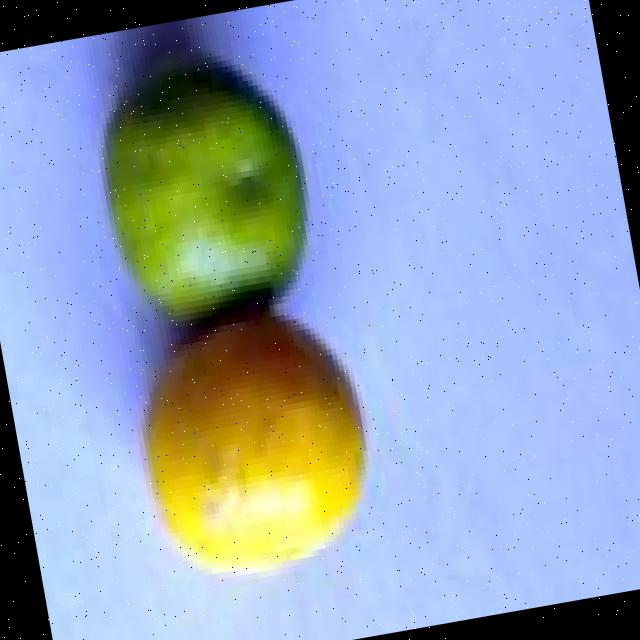Good_Orange-15-21 days: (96, 51, 363, 582)
